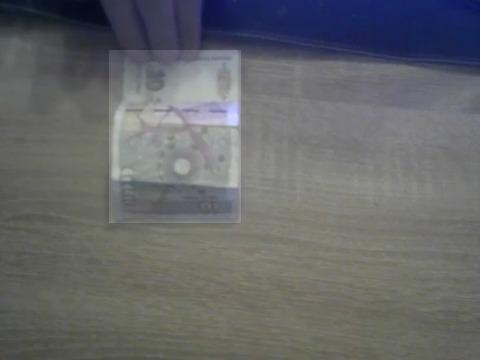10leva: (109, 50, 241, 223)
